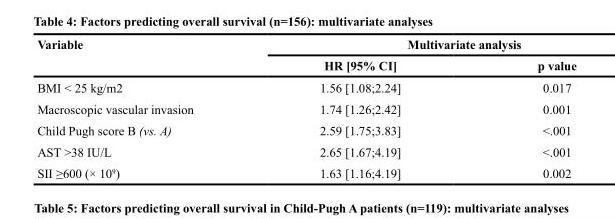table: (36, 36, 575, 179)
table column: (36, 36, 255, 179), (255, 36, 468, 179), (468, 36, 575, 179)
table column header: (36, 36, 575, 76)
table row: (36, 54, 575, 76), (36, 76, 575, 98), (36, 140, 575, 162), (36, 98, 575, 119), (36, 119, 575, 140), (36, 36, 575, 54), (36, 162, 575, 179)
table spanning cell: (36, 36, 255, 76), (255, 36, 575, 54)
